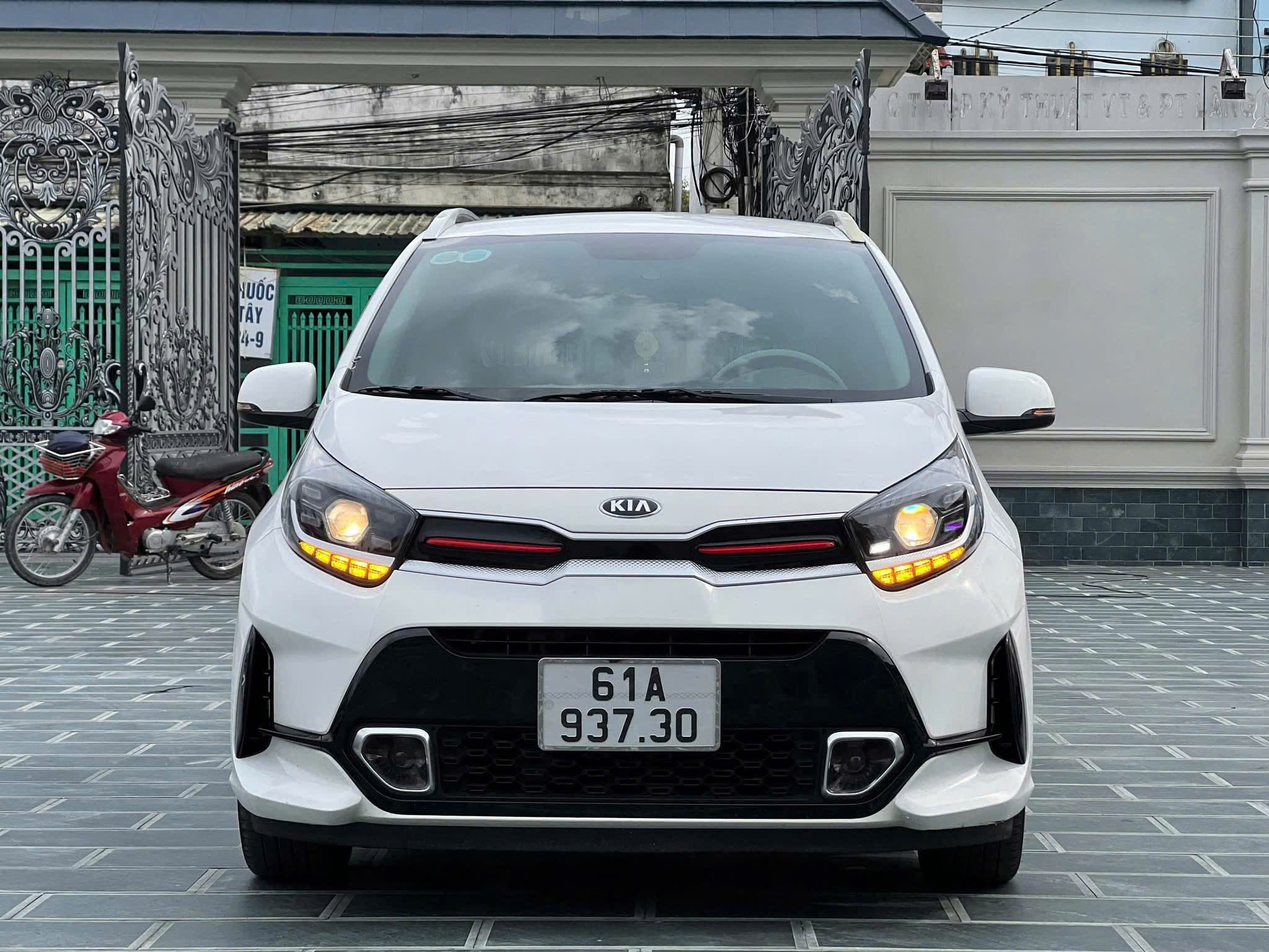Bien-so: (541, 652, 735, 751)
